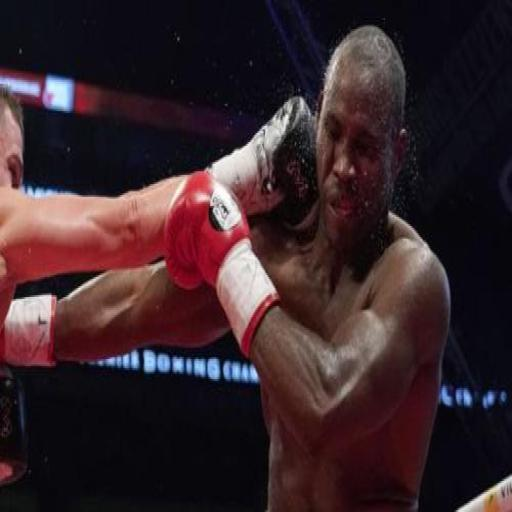boxing: (0, 24, 452, 508)
